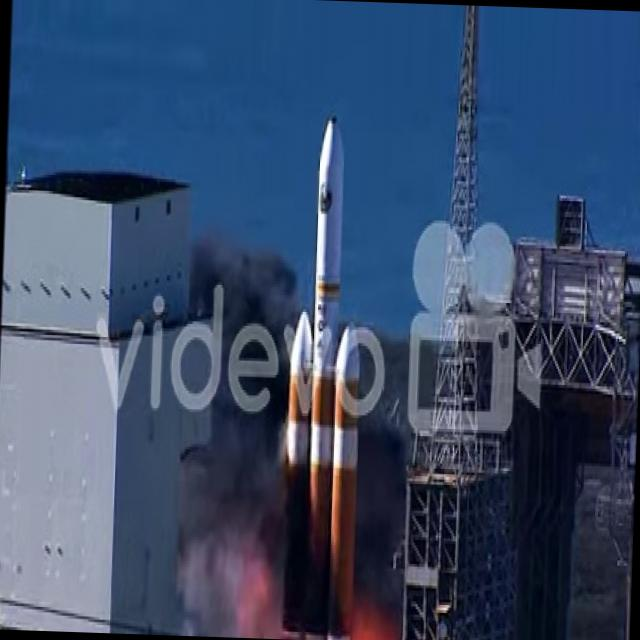rocket: (300, 109, 375, 640)
